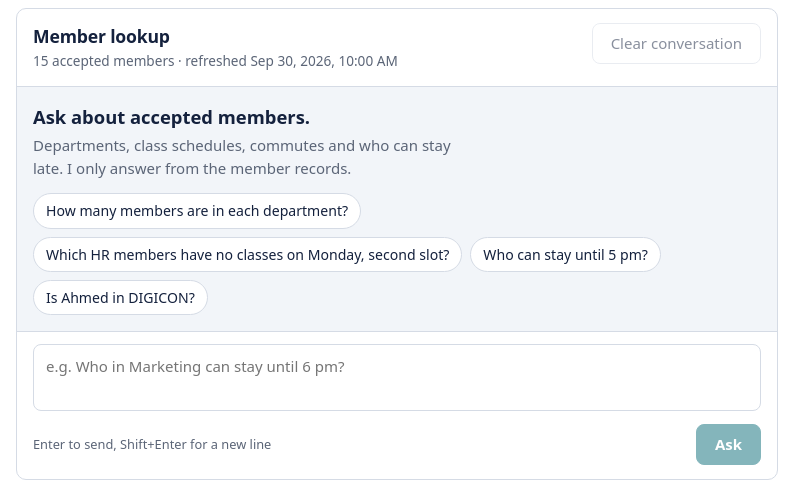
Scenario: MemberChat › renders server errors distinctly and retries
The width and height of the screenshot is (795, 503).
In the text box named "Ask a question about members": coordinates (397, 377) [33,344,761,411], type "hello"
Then press Enter
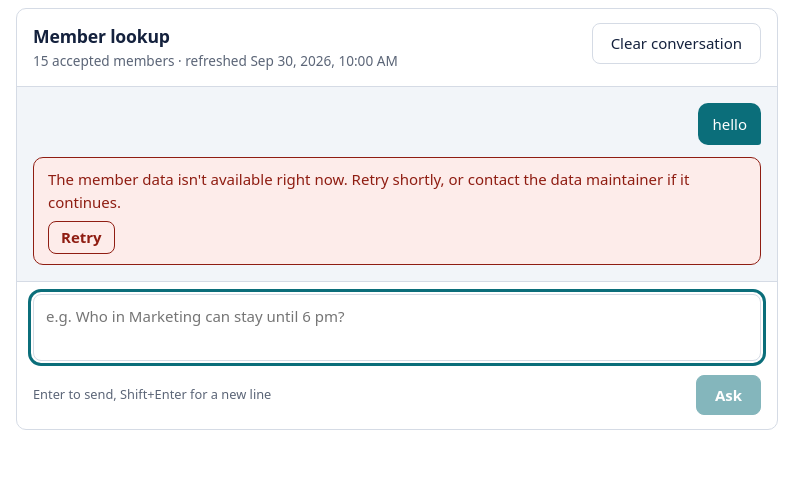
Expected: the message shows "member data isn't available", [48,169,689,212]
Click the button "Retry": coordinates (81, 238) [48,221,115,254]
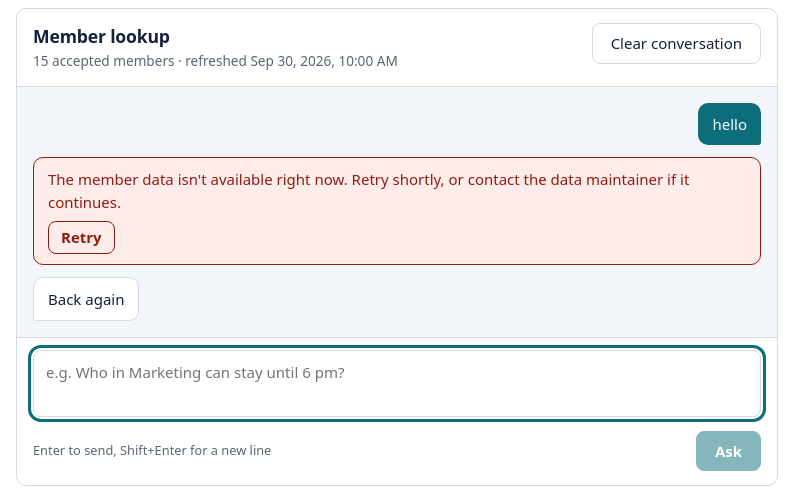
Expected: the text "Back again" is shown, [48,288,124,310]
